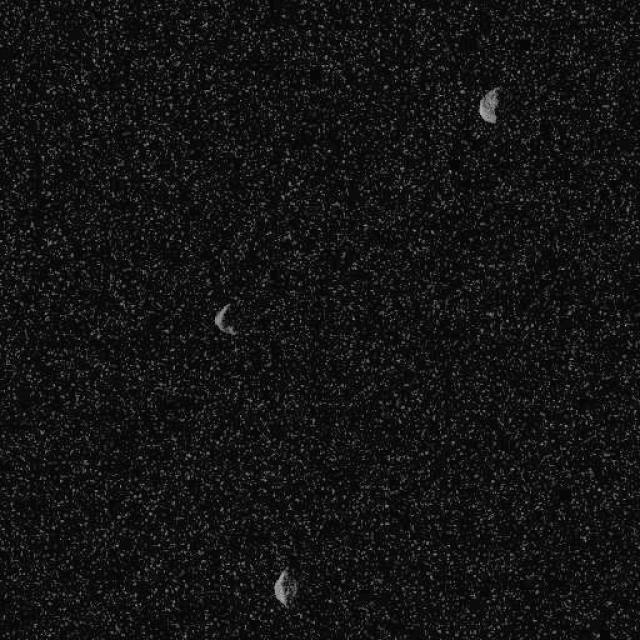D2: (272, 566, 298, 608), (212, 301, 238, 335), (476, 86, 499, 124)
